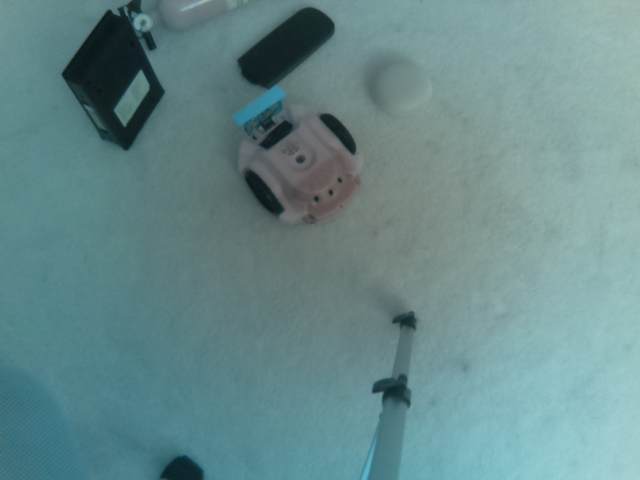board: (226, 82, 287, 130)
chassis: (224, 81, 362, 226)
